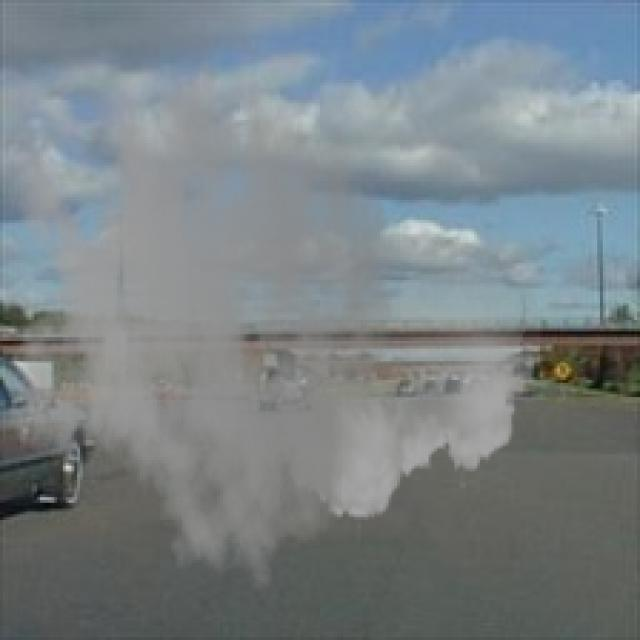smoke: (3, 23, 543, 591)
